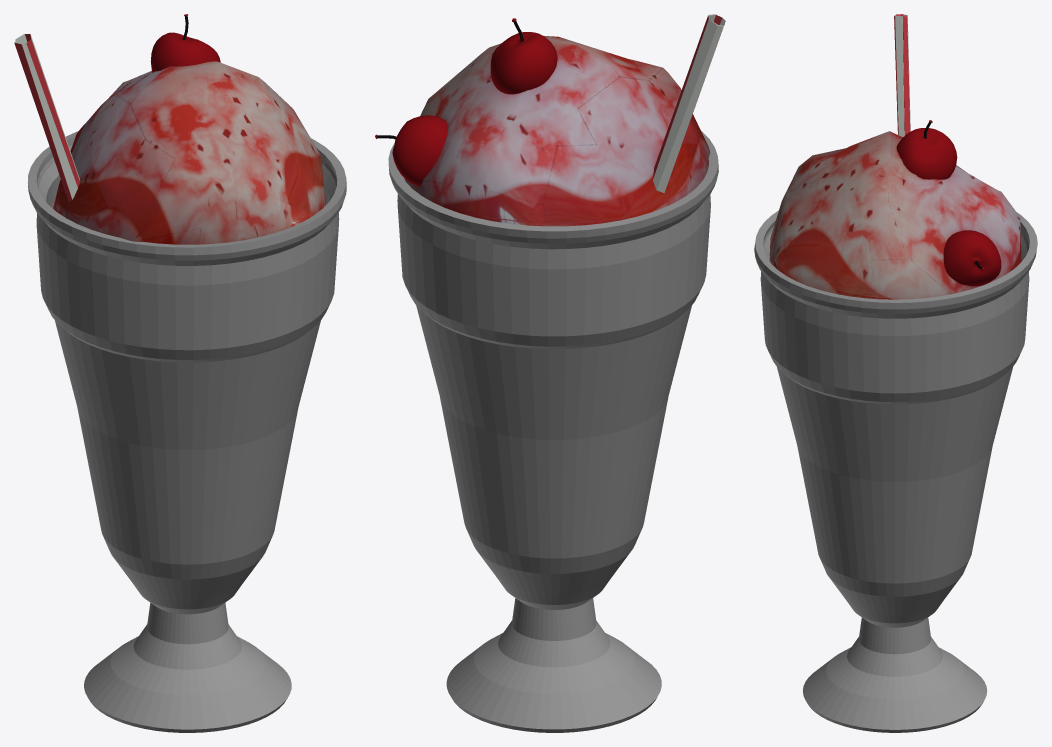
Rendered from milkshake__diner_decoration.glb.
The picture shows the model from 3 angles, left to right: view 1: azimuth 30°, elevation 25°; view 2: azimuth 150°, elevation 25°; view 3: azimuth 270°, elevation 25°; orthographic projection. The views are drawn at different scales.
Visible parts, largest first — view 1: GLASS, ICECREAM, Cylinder.002, CHERRY, STRAW; view 2: GLASS, ICECREAM, CHERRY, STRAW, CHERRY.001, Cylinder.002; view 3: GLASS, ICECREAM, CHERRY.001, CHERRY, STRAW, Cylinder.002.
Boxes of the visible parts, x1=… form: GLASS: x1=27, y1=131, x2=346, y2=732; ICECREAM: x1=53, y1=61, x2=326, y2=244; Cylinder.002: x1=14, y1=34, x2=80, y2=202; CHERRY: x1=150, y1=14, x2=220, y2=72; STRAW: x1=14, y1=33, x2=80, y2=199; GLASS: x1=388, y1=131, x2=718, y2=732; ICECREAM: x1=405, y1=35, x2=710, y2=226; CHERRY: x1=490, y1=18, x2=557, y2=94; STRAW: x1=653, y1=14, x2=725, y2=192; CHERRY.001: x1=375, y1=115, x2=447, y2=186; Cylinder.002: x1=652, y1=15, x2=725, y2=187; GLASS: x1=754, y1=210, x2=1037, y2=732; ICECREAM: x1=769, y1=131, x2=1021, y2=299; CHERRY.001: x1=943, y1=230, x2=1001, y2=286; CHERRY: x1=896, y1=120, x2=957, y2=179; STRAW: x1=894, y1=14, x2=910, y2=136; Cylinder.002: x1=894, y1=14, x2=910, y2=135.
Bounding box in the file's own units: 0.1462 × 0.3144 × 0.1319.
6 materials, 1 textured.
